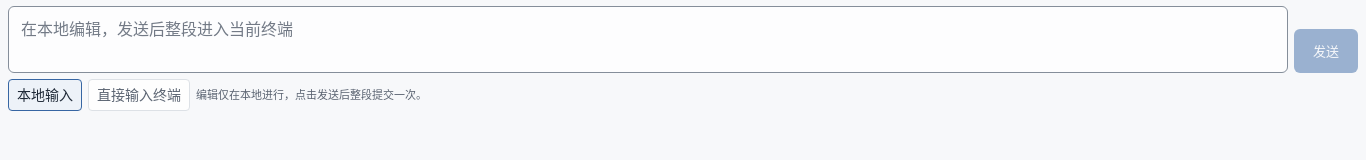
Scenario: Composer › never sends the Enter leg when the text leg fails, so a failed send cannot half-submit
The width and height of the screenshot is (1366, 160).
In the text box named "本地输入内容": (648, 39) [8,6,1288,73], type "keep me"
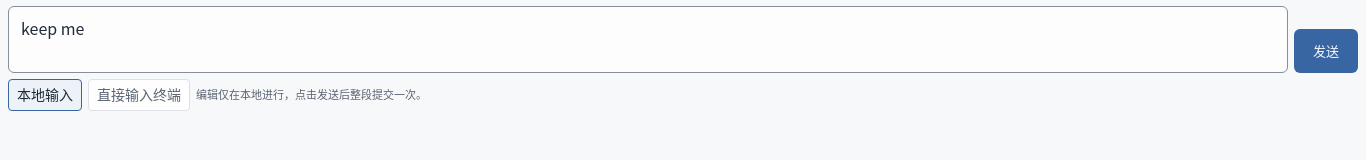
Click the button "发送": (1326, 51) [1294,29,1358,73]
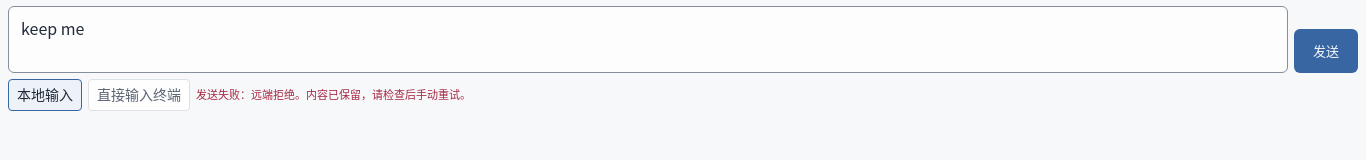
Now the message shows "发送失败", box [196,86,471,102]
